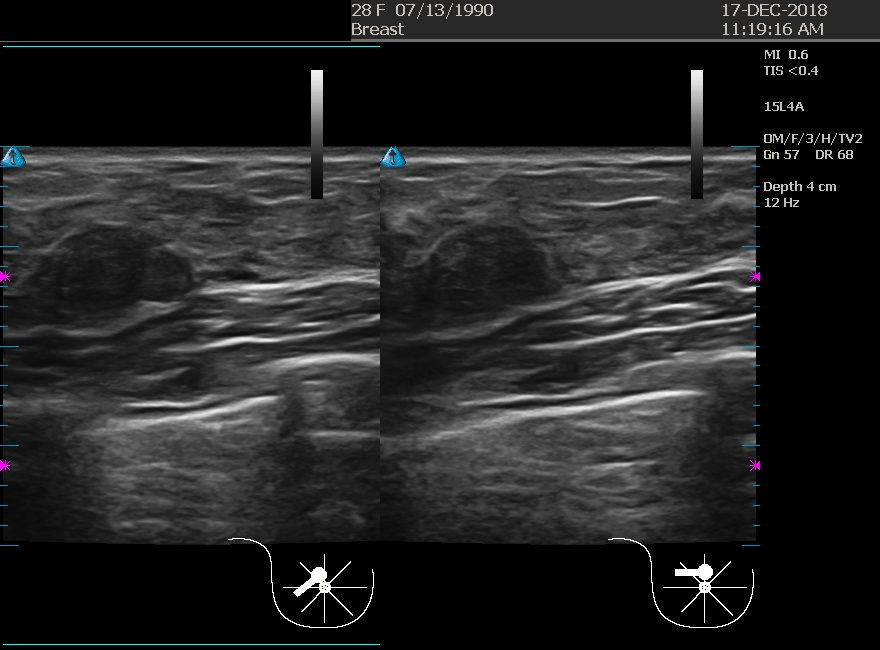BIRADS_4: (18, 170, 218, 370), (405, 151, 605, 351)
